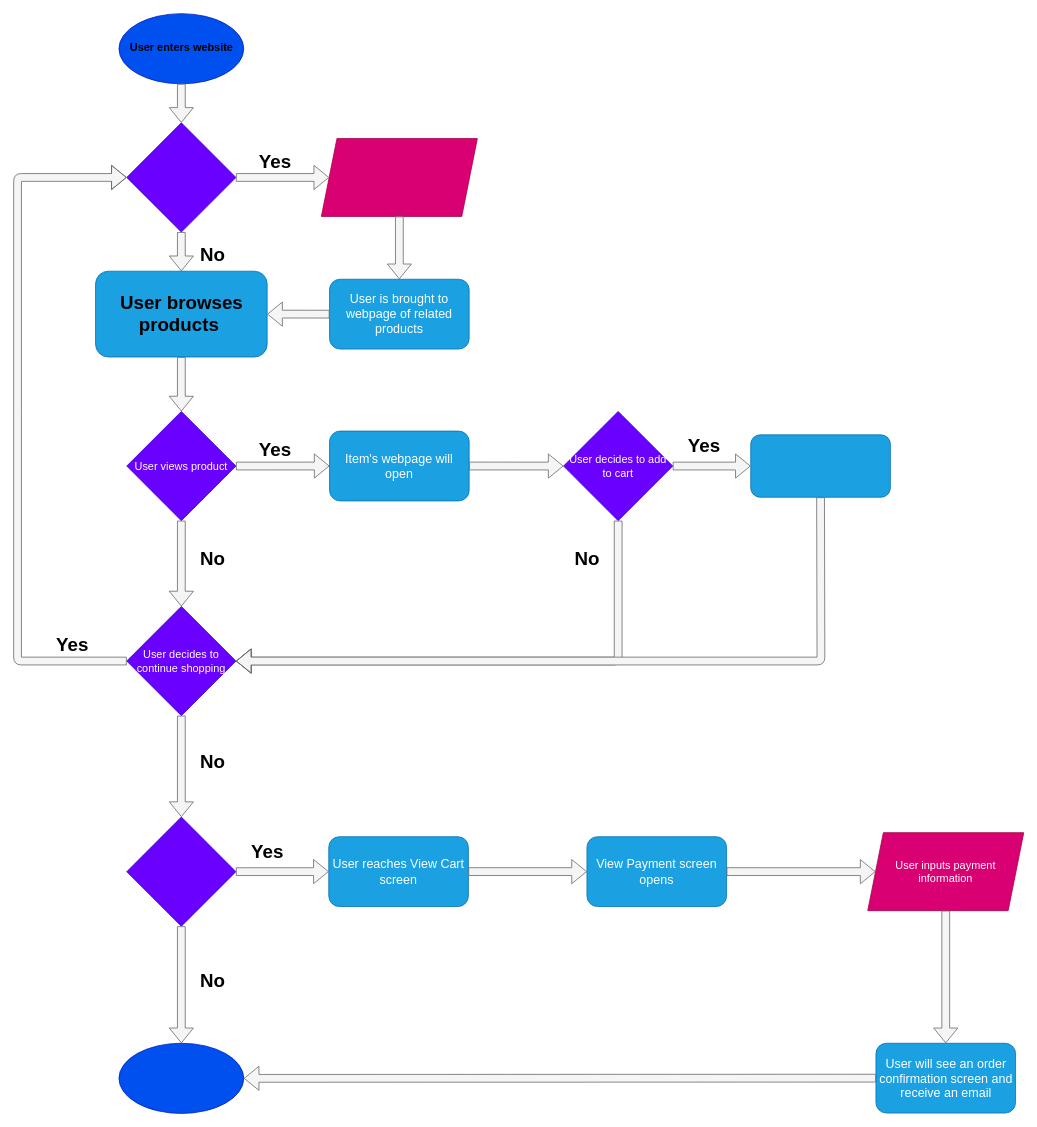
This 1037x1127 diagram has some shape labels left out. Here are the shapes that lost their labels. From the top down, the centre of each, then its label:
At point 181,177: "User uses search bar".
At point 399,177: "User provides input for product".
At point 820,465: "User is notified that item was added to cart".
At point 181,871: "User decides to checkout".
At point 181,1077: "User leaves website".
